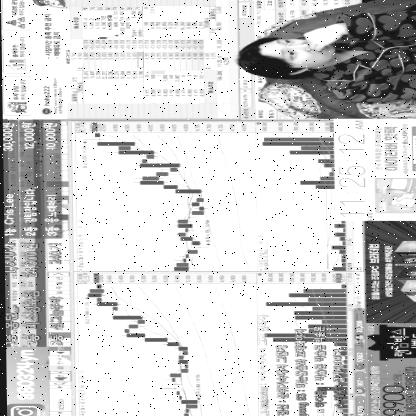streamer: (232, 10, 416, 104)
